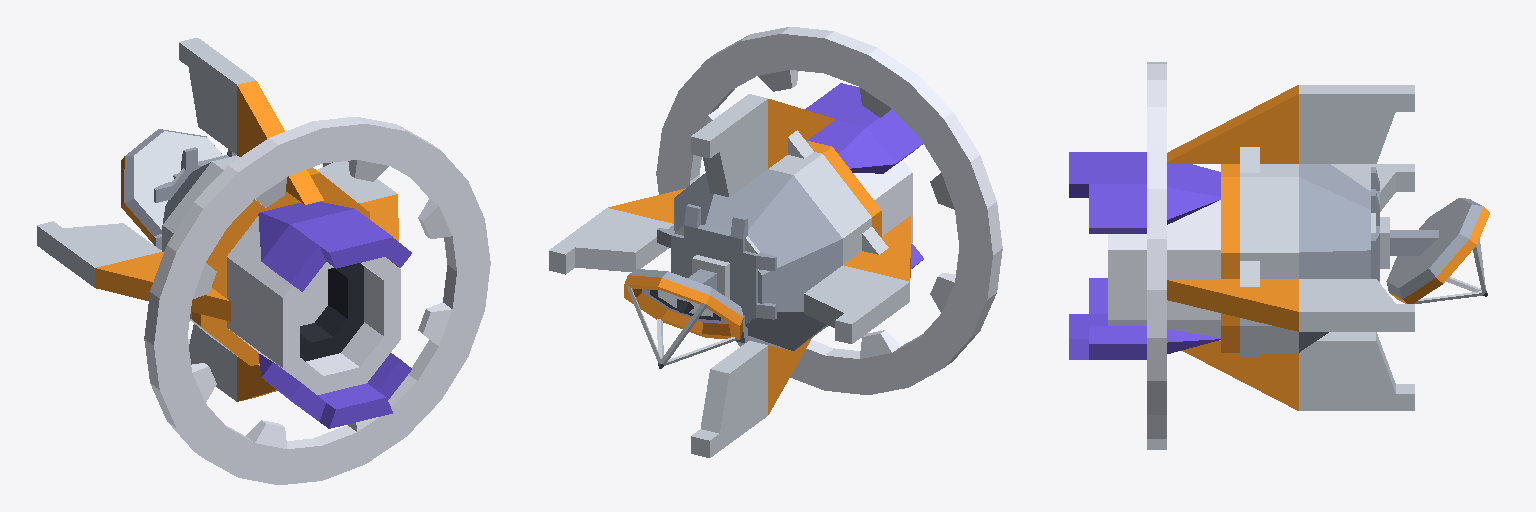
Rendered from galaxy_launcher.obj.
The picture shows the model from 3 angles: view 1: azimuth 30°, elevation 25°; view 2: azimuth 150°, elevation 25°; view 3: azimuth 270°, elevation 25°; orthographic projection.
Parts seen in each view (by area): view 1: road_gate, rocket_baseB, satelliteDish_detailed; view 2: rocket_baseB, road_gate, satelliteDish_detailed; view 3: rocket_baseB, road_gate, satelliteDish_detailed.
Boxes of the visible parts, box(x1,y1,x2,y2) form: road_gate: box(144, 117, 490, 484); rocket_baseB: box(37, 38, 398, 401); satelliteDish_detailed: box(121, 129, 235, 249); rocket_baseB: box(549, 94, 910, 457); road_gate: box(656, 27, 1002, 394); satelliteDish_detailed: box(624, 204, 776, 368); rocket_baseB: box(1167, 85, 1414, 410); road_gate: box(1069, 62, 1220, 449); satelliteDish_detailed: box(1371, 167, 1489, 303).
Bounding box in the file's own units: 2 × 2 × 2.17.